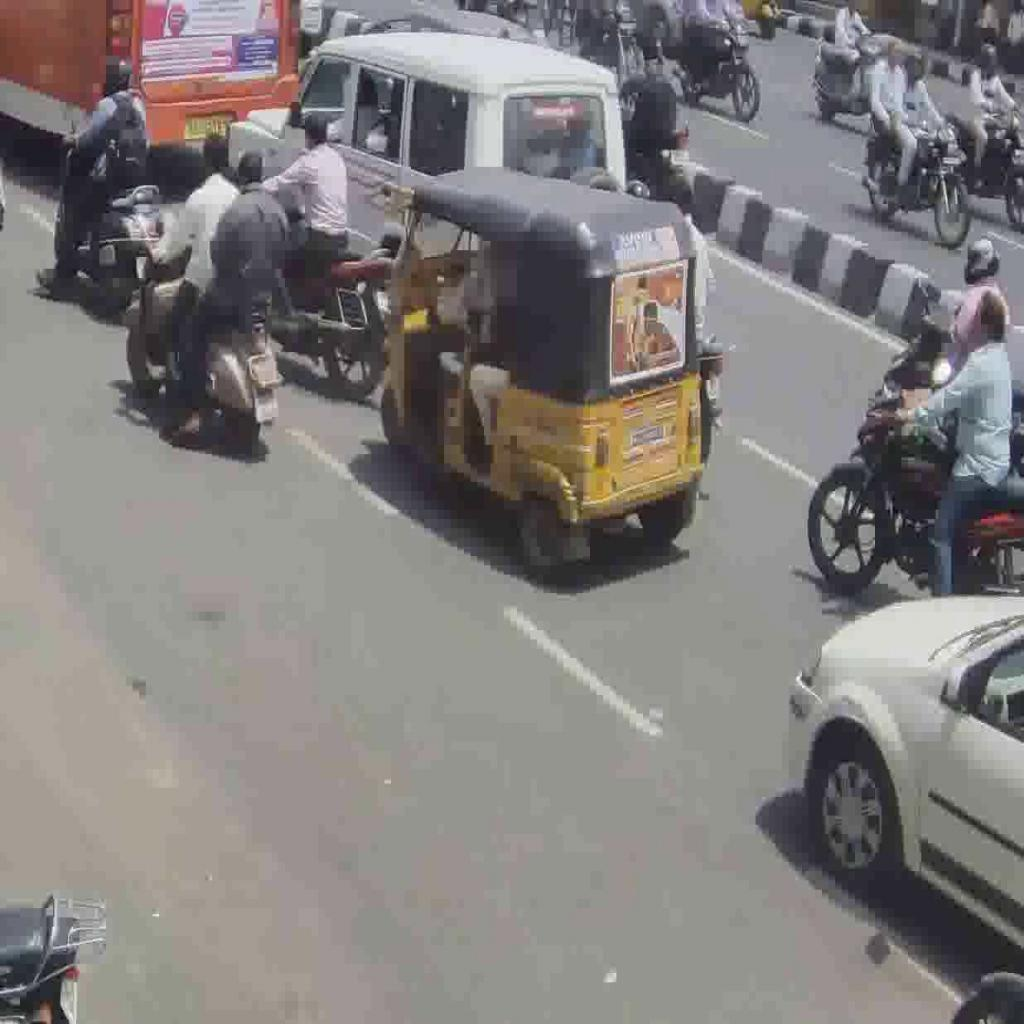helmet: (803, 387, 1024, 608), (122, 212, 284, 450), (54, 112, 165, 320), (282, 228, 394, 398), (863, 112, 972, 249)
